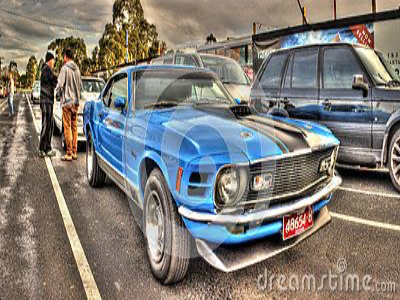licence: (278, 206, 315, 243)
